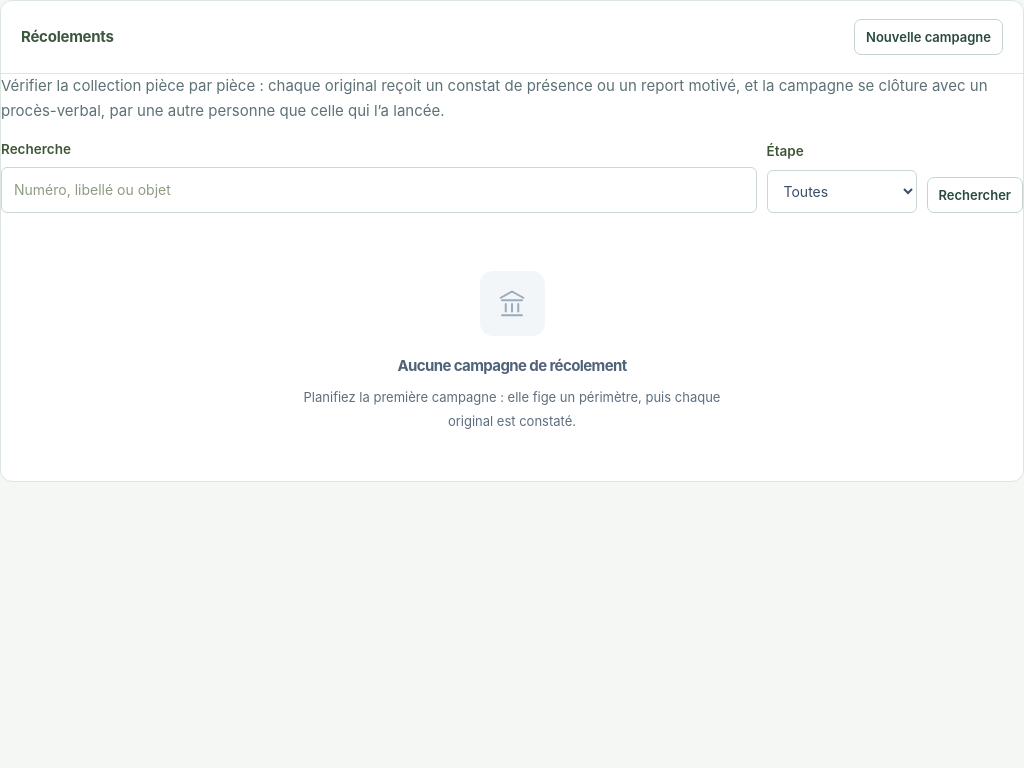
Test: une date de fin avant la date de début est refusée avant l’envoi
Click the button "Nouvelle campagne". click: (929,37)
box: [854,19,1003,55]
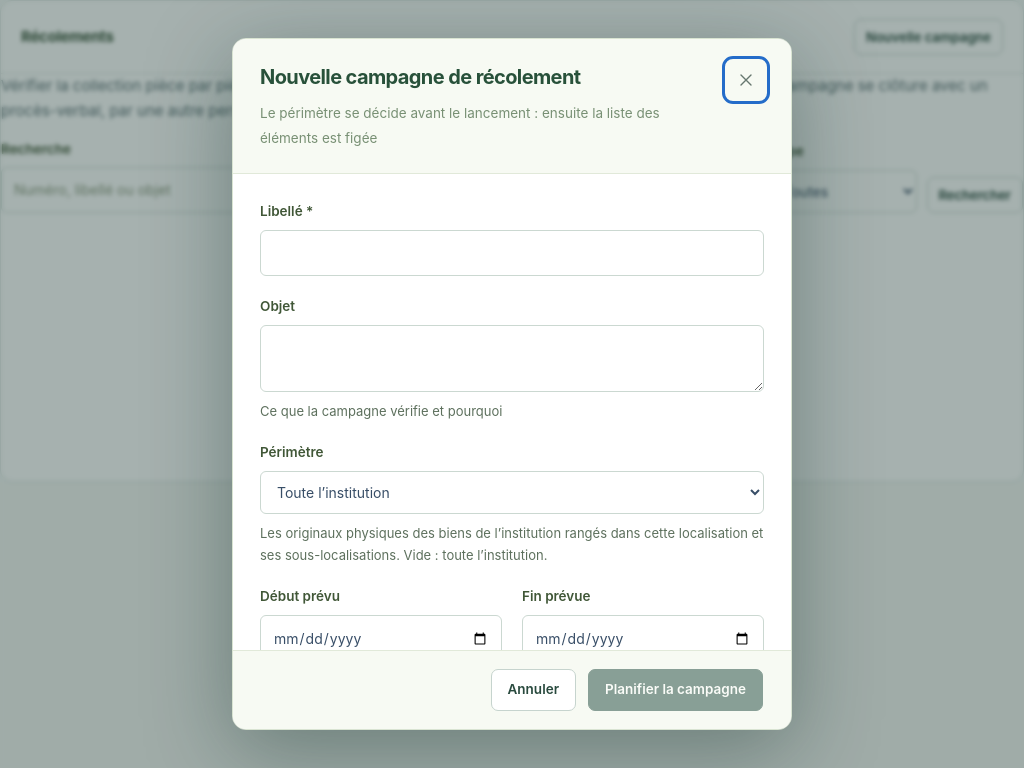
Type "Récolement" into the field labelled "Libellé *". click: (512,253)
box: [260,230,764,276]
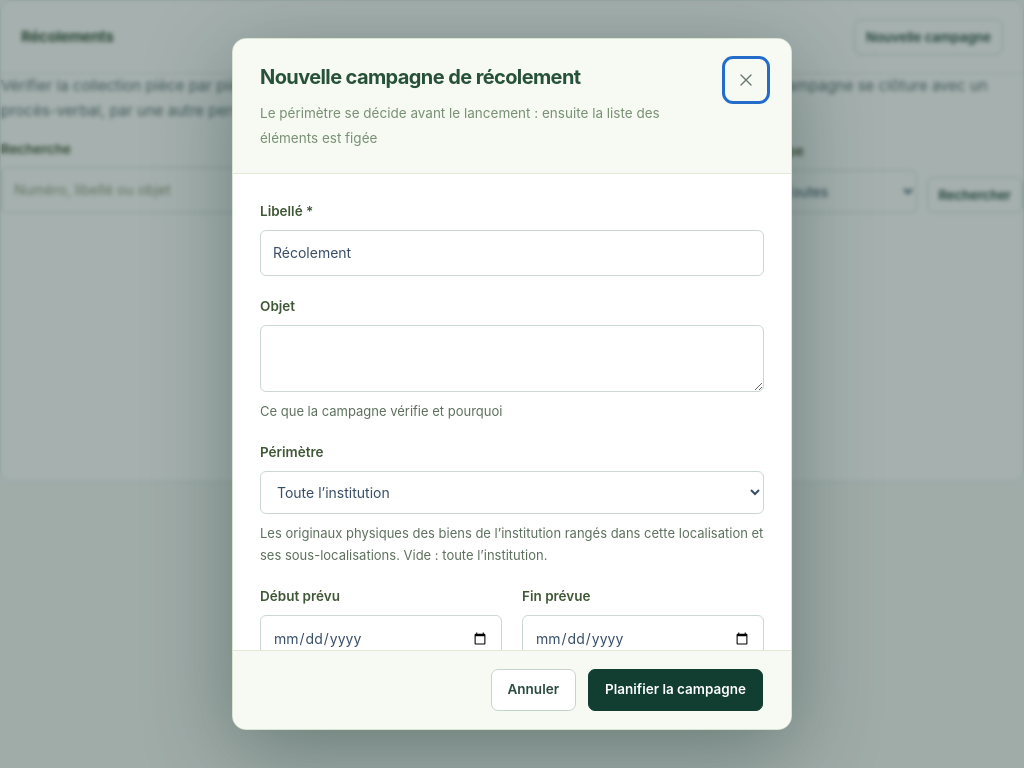
Type "2026-10-10" into the date field labelled "Début prévu". click: (381,639)
box: [260,615,502,663]
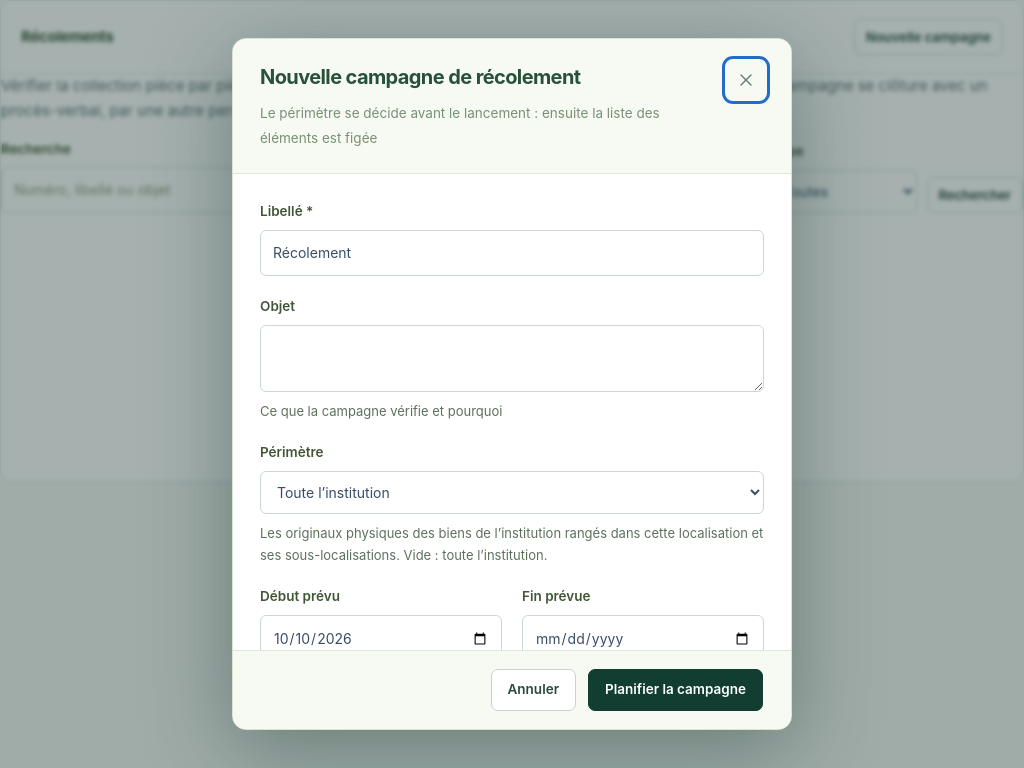
Type "2026-10-01" into the date field labelled "Fin prévue". click: (643,639)
box: [522,615,764,663]
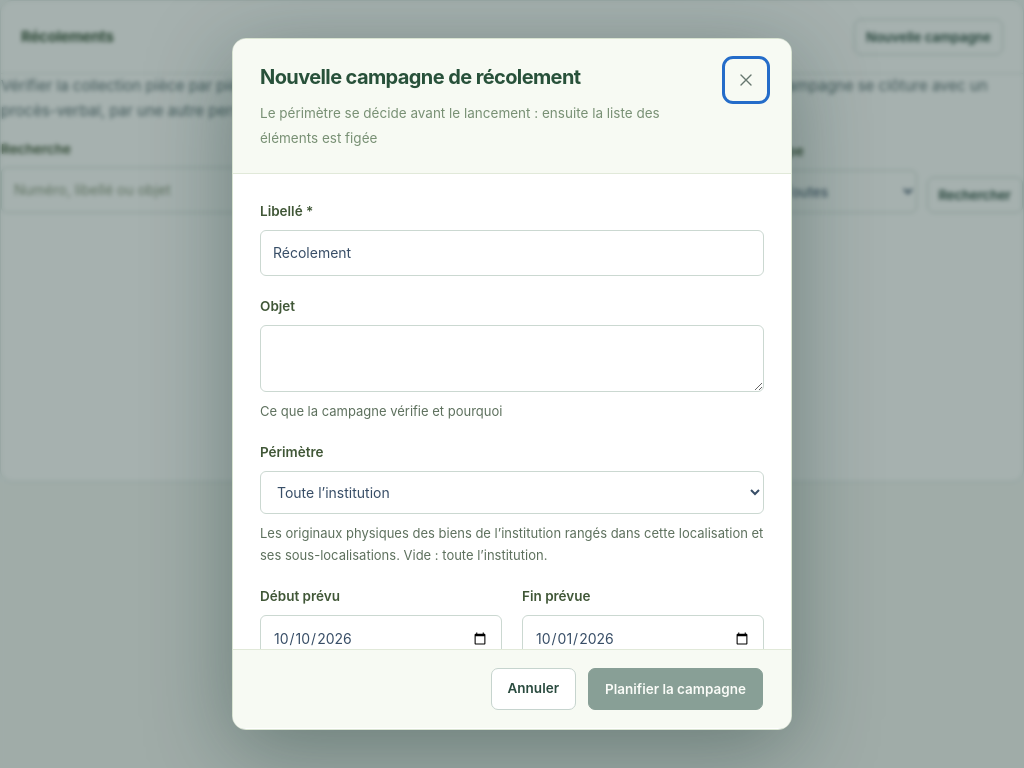
Expected: the text "La date de fin prévue doit suivre la date de début prévue." is shown, [270,698,648,719]
Expected: the button "Planifier la campagne" is disabled, [588,669,763,711]
